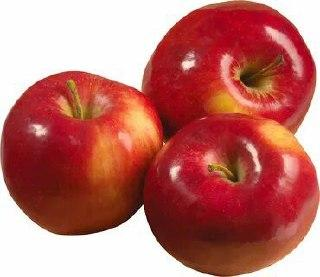Apple: (143, 114, 319, 276), (1, 71, 163, 235), (142, 0, 316, 118)
